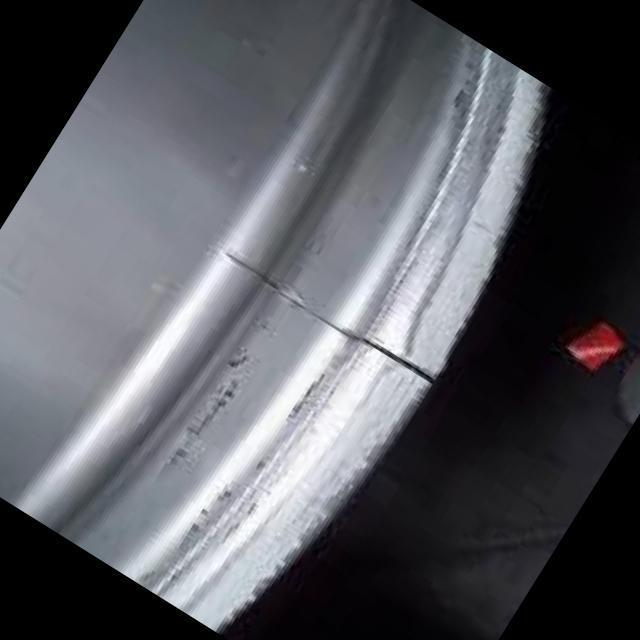defect: (219, 247, 440, 385)
